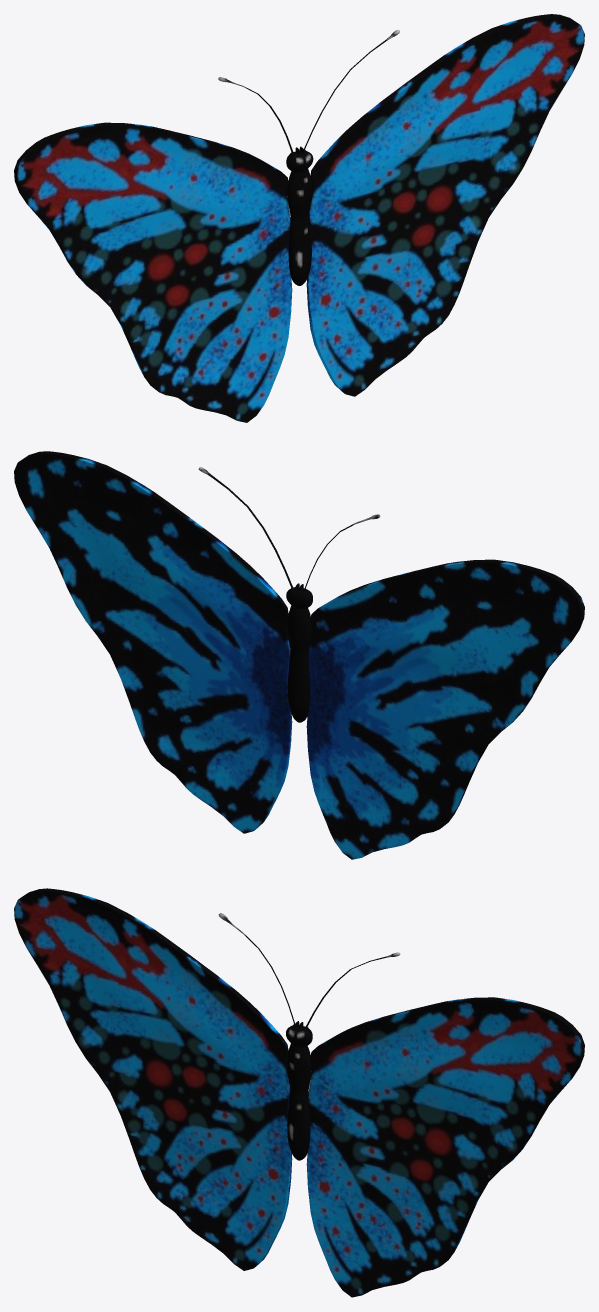
File: butterfly.glb
3 renders of one model, top to bottom at view 1: azimuth 30°, elevation 25°; view 2: azimuth 150°, elevation 25°; view 3: azimuth 330°, elevation 25°, orthographic.
Parts seen in each view (by area): view 1: ala, farfalla; view 2: ala, farfalla; view 3: ala, farfalla.
Boxes of the visible parts, x1,y1,x2,y2 form: ala: [14, 14, 584, 422]; farfalla: [218, 30, 399, 285]; ala: [14, 451, 584, 859]; farfalla: [198, 467, 380, 722]; ala: [14, 888, 584, 1297]; farfalla: [218, 913, 400, 1160].
Bounding box in the file's own units: 4.09 × 2.44 × 0.1166.
Materials: 2 (2 with a texture image).
